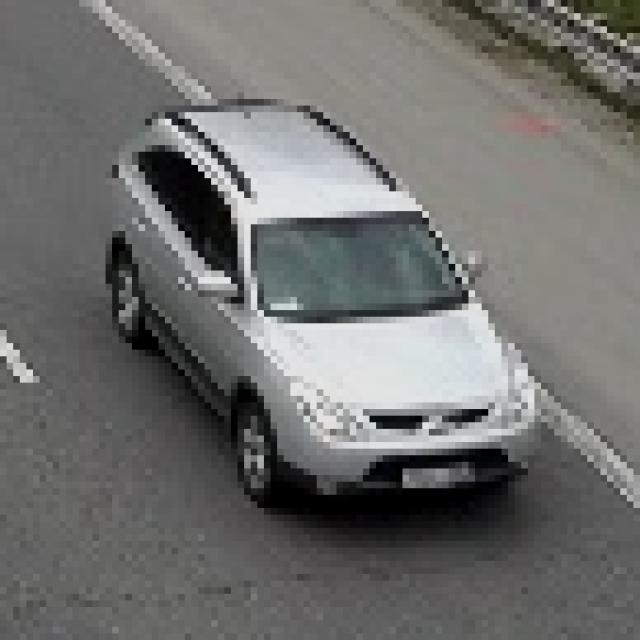SUV: (120, 113, 505, 491)
